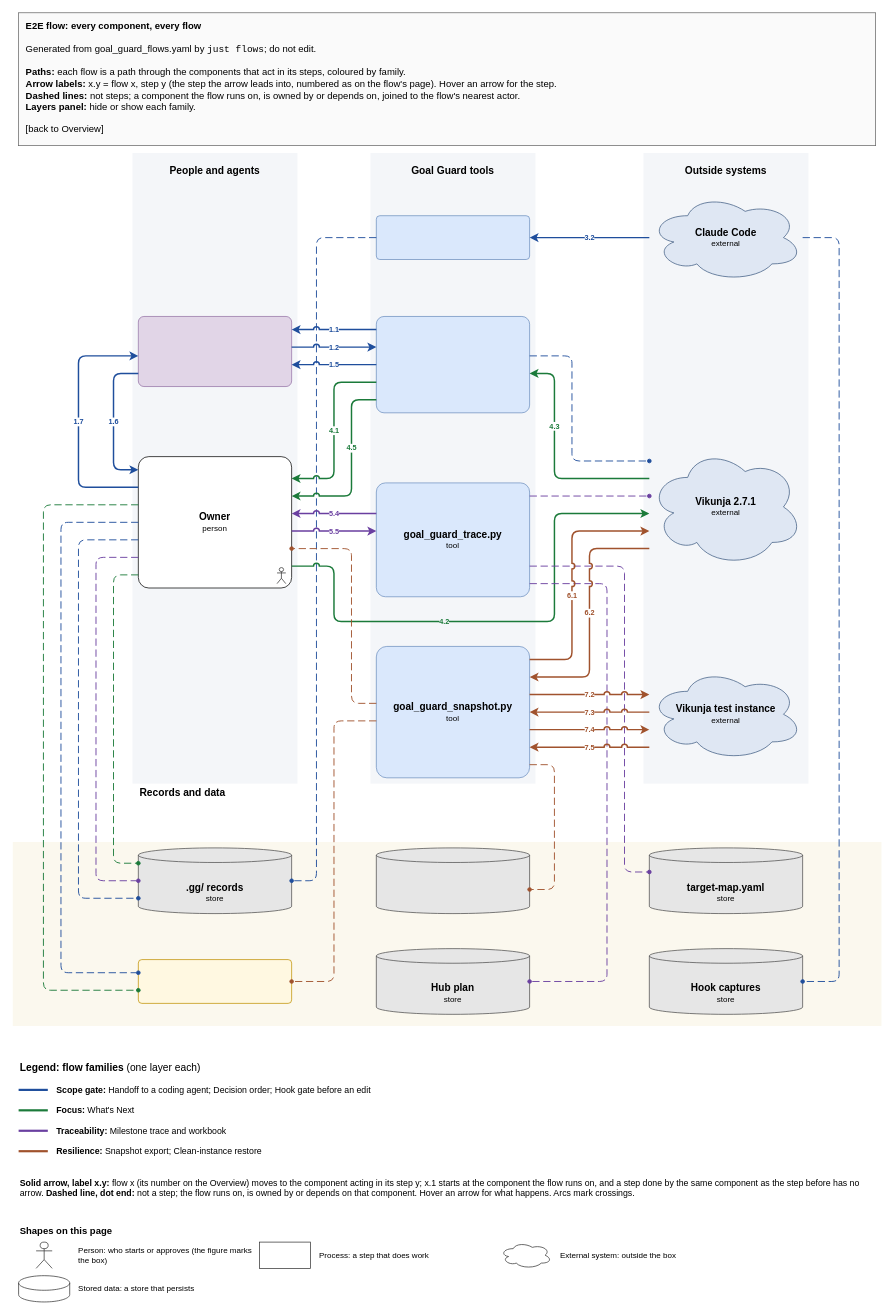
Some shapes in this 894 by 1315 pixel diagram are drawn without their labels. The centre of each missing label's shape, as x and y in pixels:
"Coding agent agent" belongs at pixel 215 351.
"goal_guard.py tool" belongs at pixel 453 364.
"goal_guard_hook.py tool" belongs at pixel 453 237.
"Snapshots store" belongs at pixel 453 880.
"Vikunja API token secret" belongs at pixel 215 981.
